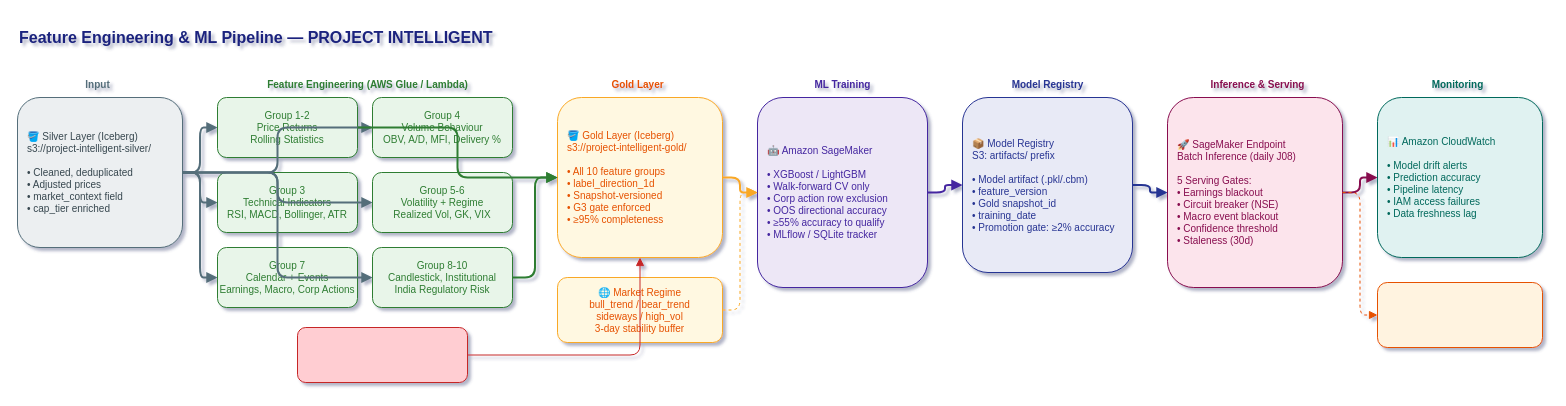
Some shapes in this 1566 by 406 pixel diagram are drawn without their labels. The centre of each missing label's shape, as x and y in pixels:
🔍 Look-ahead Bias Audit Zero violations gate Blocks Gold write on fail: the point at 382,354
🗄️ DynamoDB Audit + Prediction Store snapshot_id per run: the point at 1459,315
